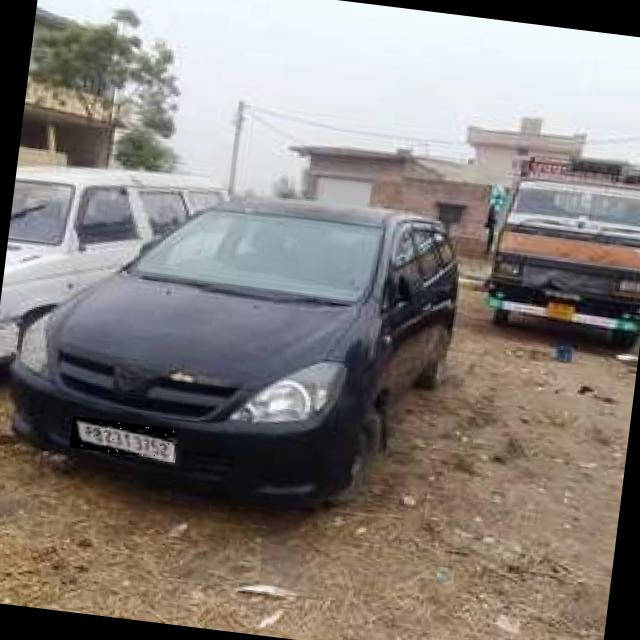Plate: (70, 417, 175, 461)
